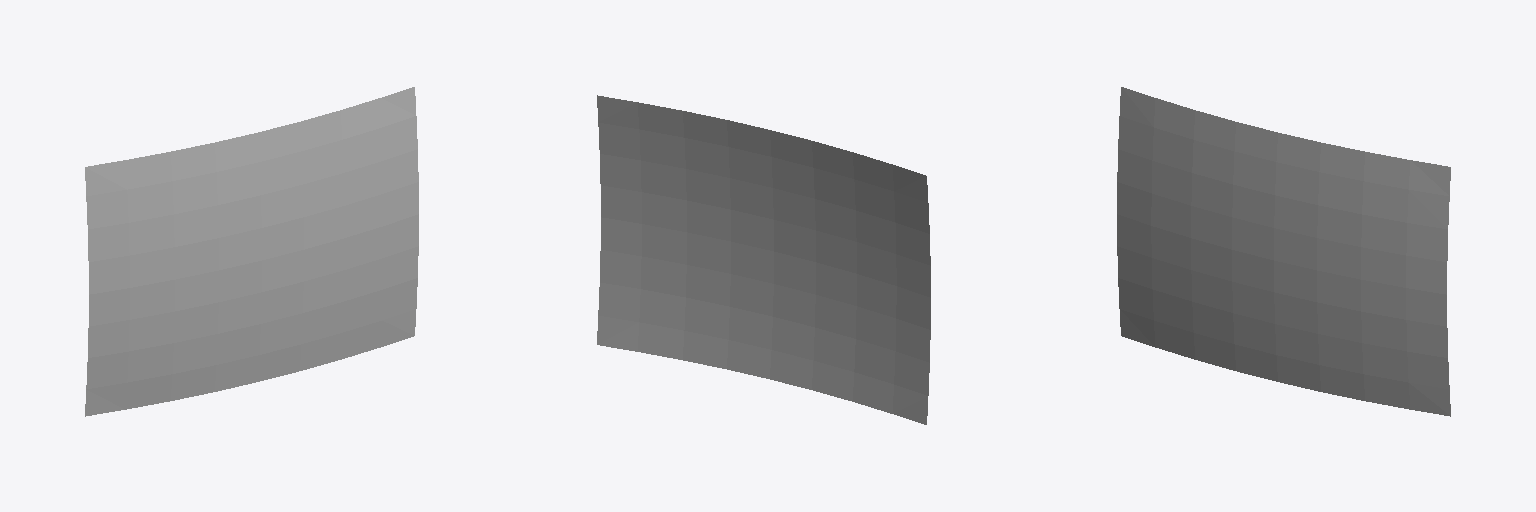
File: KX-27HV1.Monitor.obj
3 renders of one model, left to right at view 1: azimuth 30°, elevation 25°; view 2: azimuth 150°, elevation 25°; view 3: azimuth 330°, elevation 25°, orthographic.
Parts seen in each view (by area): view 1: Display_Cube.000; view 2: Display_Cube.000; view 3: Display_Cube.000.
Part boxes in pixels (bbox=[...]): Display_Cube.000: bbox=[85, 87, 418, 416]; Display_Cube.000: bbox=[597, 95, 930, 424]; Display_Cube.000: bbox=[1117, 87, 1450, 416].
Bounding box in the file's own units: 0.6803 × 0.4915 × 0.0435.